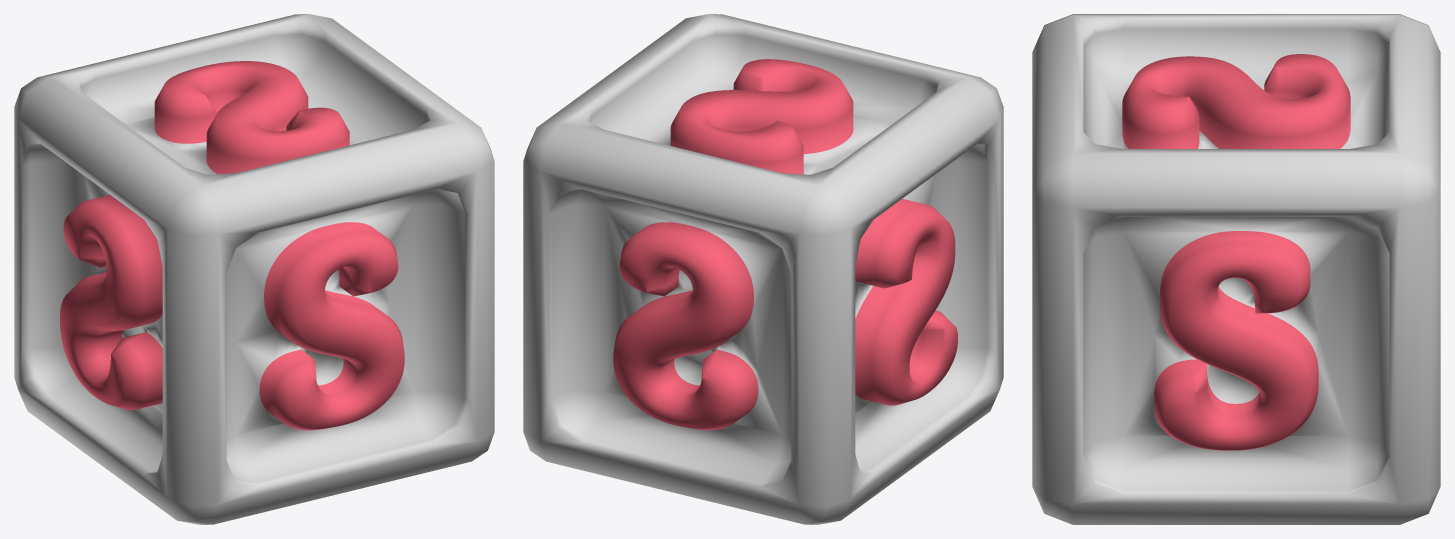
The picture shows the model from 3 angles, left to right: view 1: azimuth 30°, elevation 25°; view 2: azimuth 150°, elevation 25°; view 3: azimuth 270°, elevation 25°; orthographic projection. The views are drawn at different scales.
Visible parts, largest first — view 1: obj_0; view 2: obj_0; view 3: obj_0.
Part boxes in pixels (left/top/right/bottom): obj_0: left=14, top=14, right=494, bottom=524; obj_0: left=523, top=14, right=1003, bottom=524; obj_0: left=1032, top=14, right=1440, bottom=524.
Size of the model in its own units: 100 by 100 by 100.
